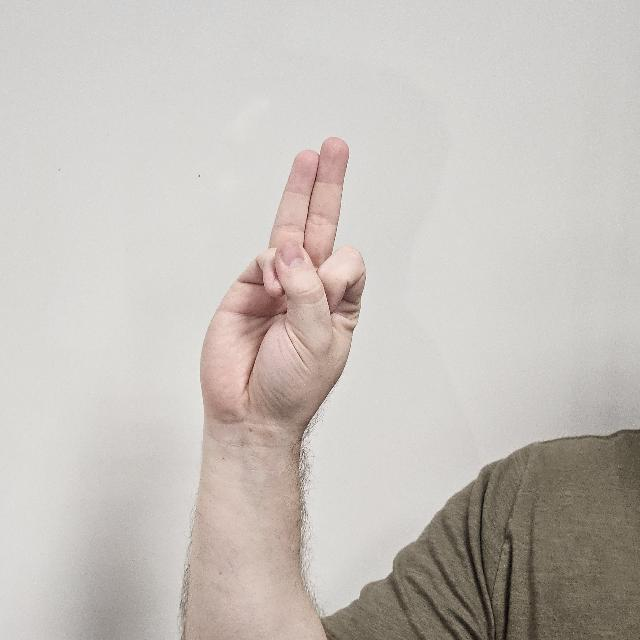R: (197, 137, 365, 440)
